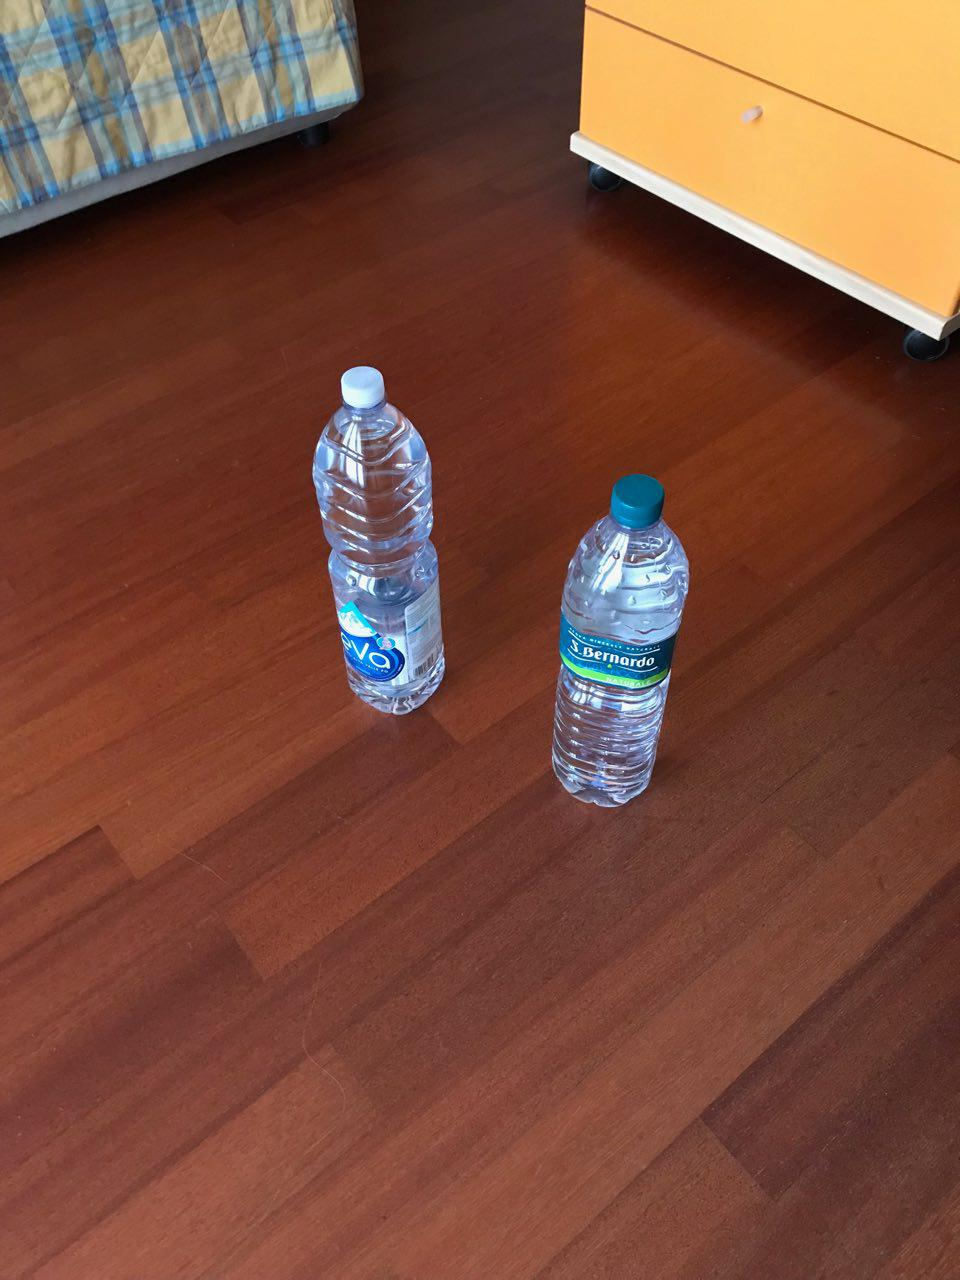san_bernardo: (550, 473, 690, 810)
